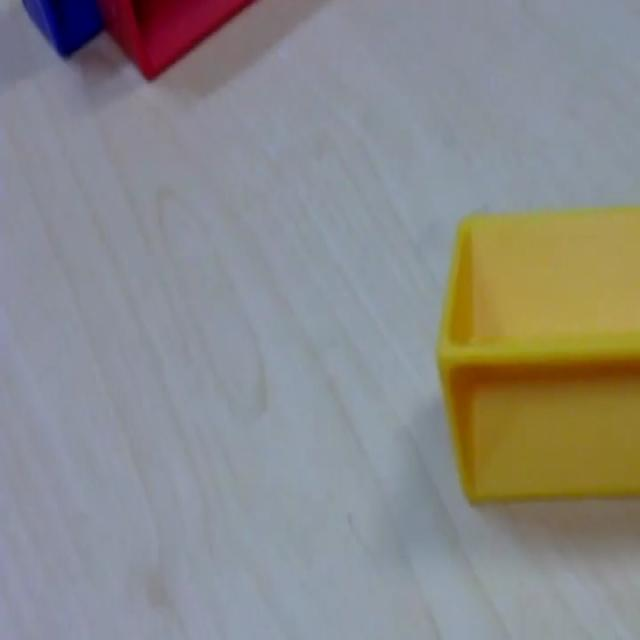yellow_block: (435, 203, 639, 505)
